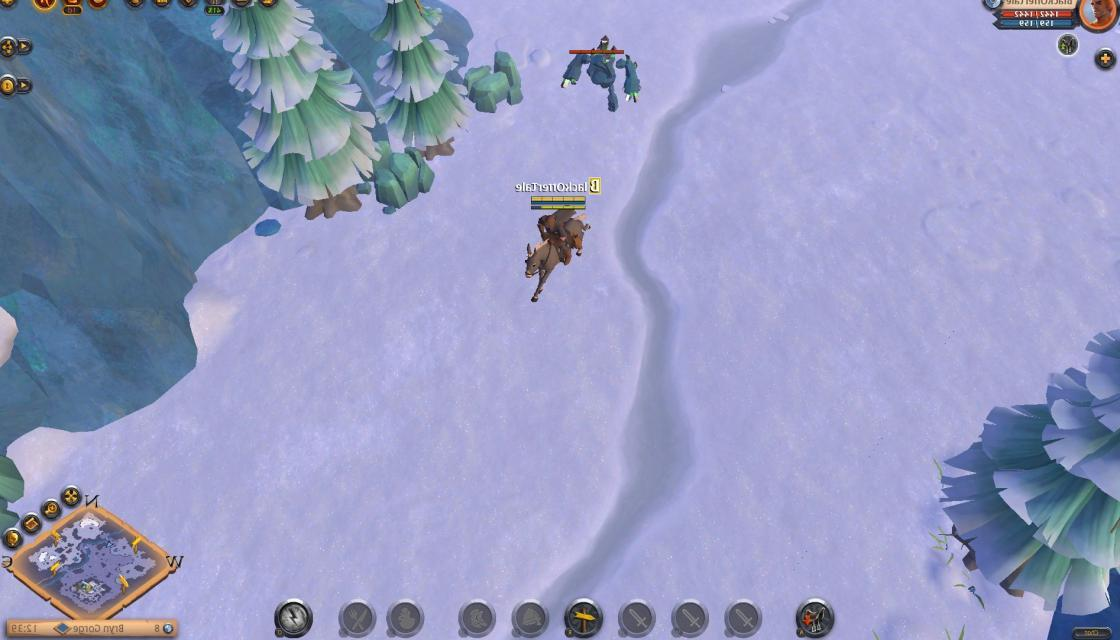sandstone: (368, 143, 436, 210), (462, 50, 526, 114), (0, 442, 30, 548)
